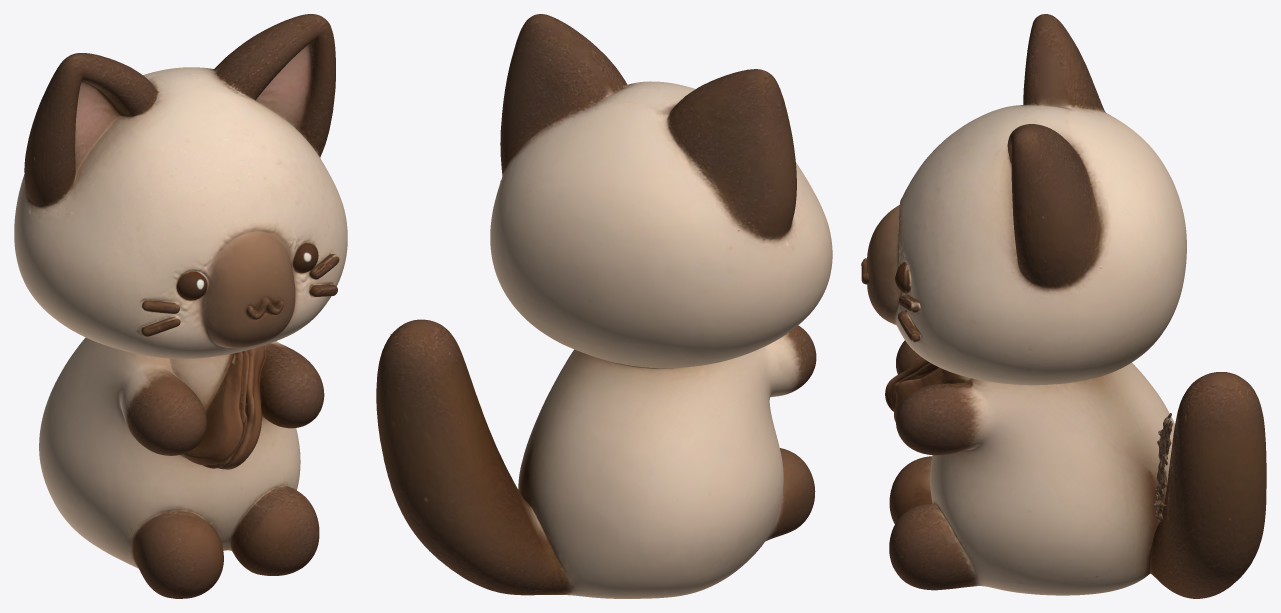
Rendered from cat-3.glb.
3 renders of one model, left to right at view 1: azimuth 30°, elevation 25°; view 2: azimuth 150°, elevation 25°; view 3: azimuth 270°, elevation 25°, orthographic. The views are drawn at different scales.
Parts seen in each view (by area): view 1: node_0; view 2: node_0; view 3: node_0.
Boxes of the visible parts, bbox=[...] form: node_0: bbox=[14, 14, 347, 598]; node_0: bbox=[376, 14, 832, 598]; node_0: bbox=[861, 14, 1266, 598].
Size of the model in its own units: 0.693 by 1.01 by 0.743.
1 material, 1 textured.
